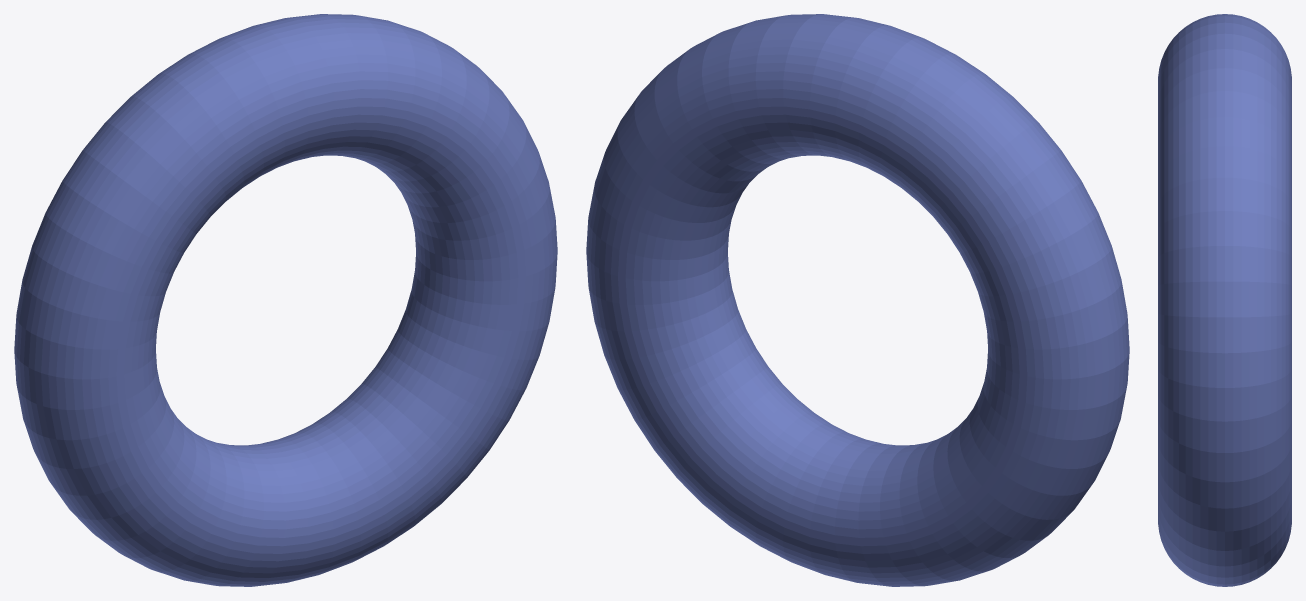
The picture shows the model from 3 angles, left to right: view 1: azimuth 30°, elevation 25°; view 2: azimuth 150°, elevation 25°; view 3: azimuth 270°, elevation 25°; orthographic projection. The views are drawn at different scales.
Visible parts, largest first — view 1: world; view 2: world; view 3: world.
Part boxes in pixels (x1,y1,x2,y2): world: [14, 14, 557, 586]; world: [586, 14, 1129, 586]; world: [1158, 14, 1291, 586].
Size of the model in its own units: 16.53 by 16.5 by 3.86.
